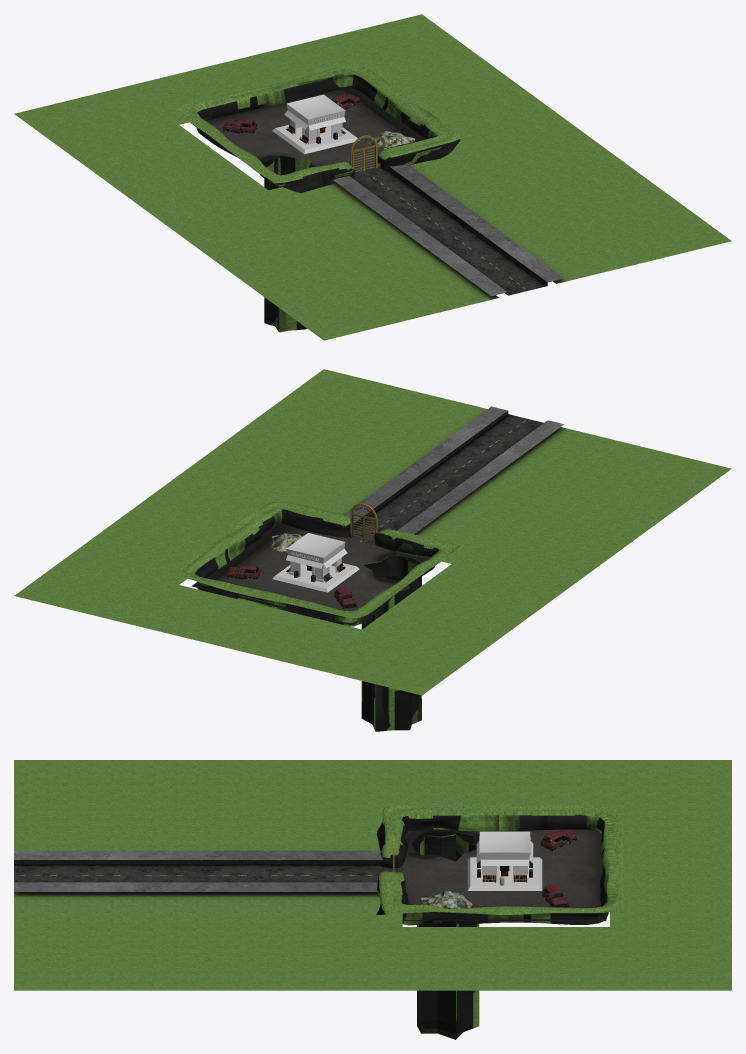
File: Waffle House.fbx
The picture shows the model from 3 angles, top to bottom: view 1: azimuth 30°, elevation 25°; view 2: azimuth 150°, elevation 25°; view 3: azimuth 270°, elevation 25°; orthographic projection. The views are drawn at different scales.
Parts seen in each view (by area): view 1: Outside, Road, Bulding, Gate; view 2: Outside, Road, Bulding, Gate; view 3: Outside, Road, Bulding, Trash Pile, Car 2, Car 1.
Part boxes in pixels (<box>): Outside: <box>14,14,731,340</box>; Road: <box>177,64,460,332</box>; Bulding: <box>272,94,359,154</box>; Gate: <box>350,135,377,171</box>; Outside: <box>14,369,731,695</box>; Road: <box>177,501,461,731</box>; Bulding: <box>272,533,359,592</box>; Gate: <box>350,503,377,541</box>; Outside: <box>14,760,731,990</box>; Road: <box>376,805,623,1039</box>; Bulding: <box>467,831,542,890</box>; Trash Pile: <box>421,890,472,908</box>; Car 2: <box>540,829,576,851</box>; Car 1: <box>542,884,569,907</box>.
Size of the model in its own units: 8563 by 3784 by 11265.
